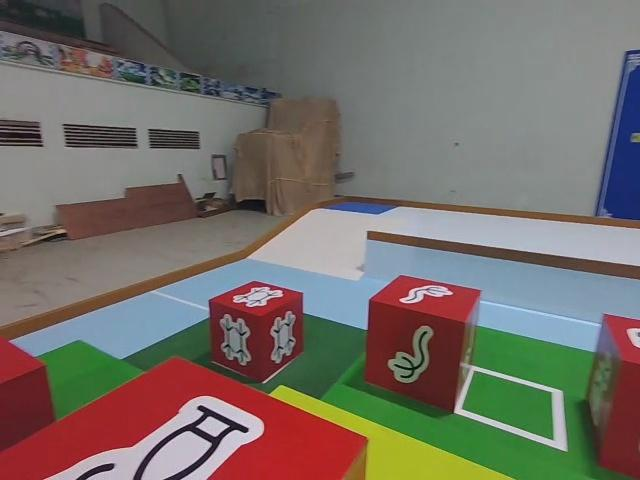R2 Real: (0, 351, 368, 480), (365, 272, 485, 416), (206, 278, 306, 384)
